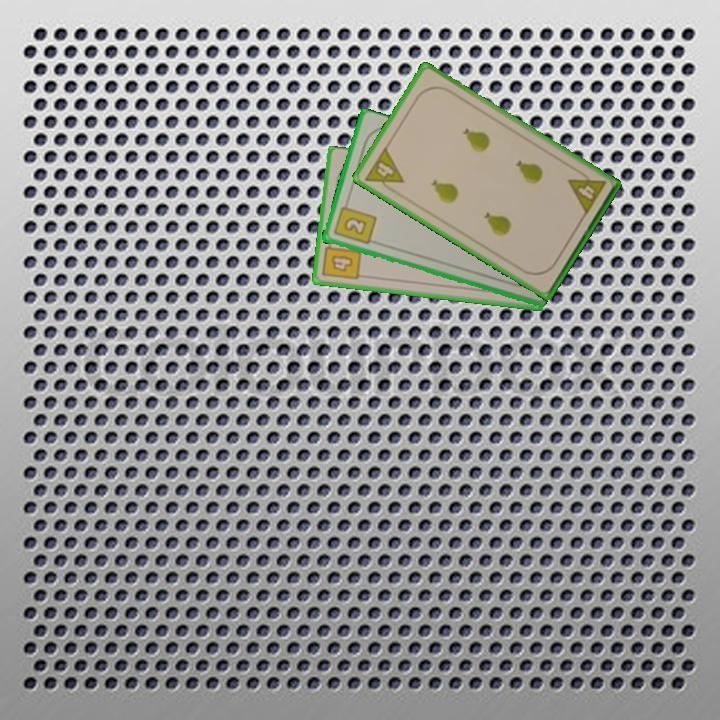2b: (330, 198, 379, 248)
4b: (319, 237, 364, 283)
4p: (361, 143, 407, 197), (564, 165, 609, 218)
